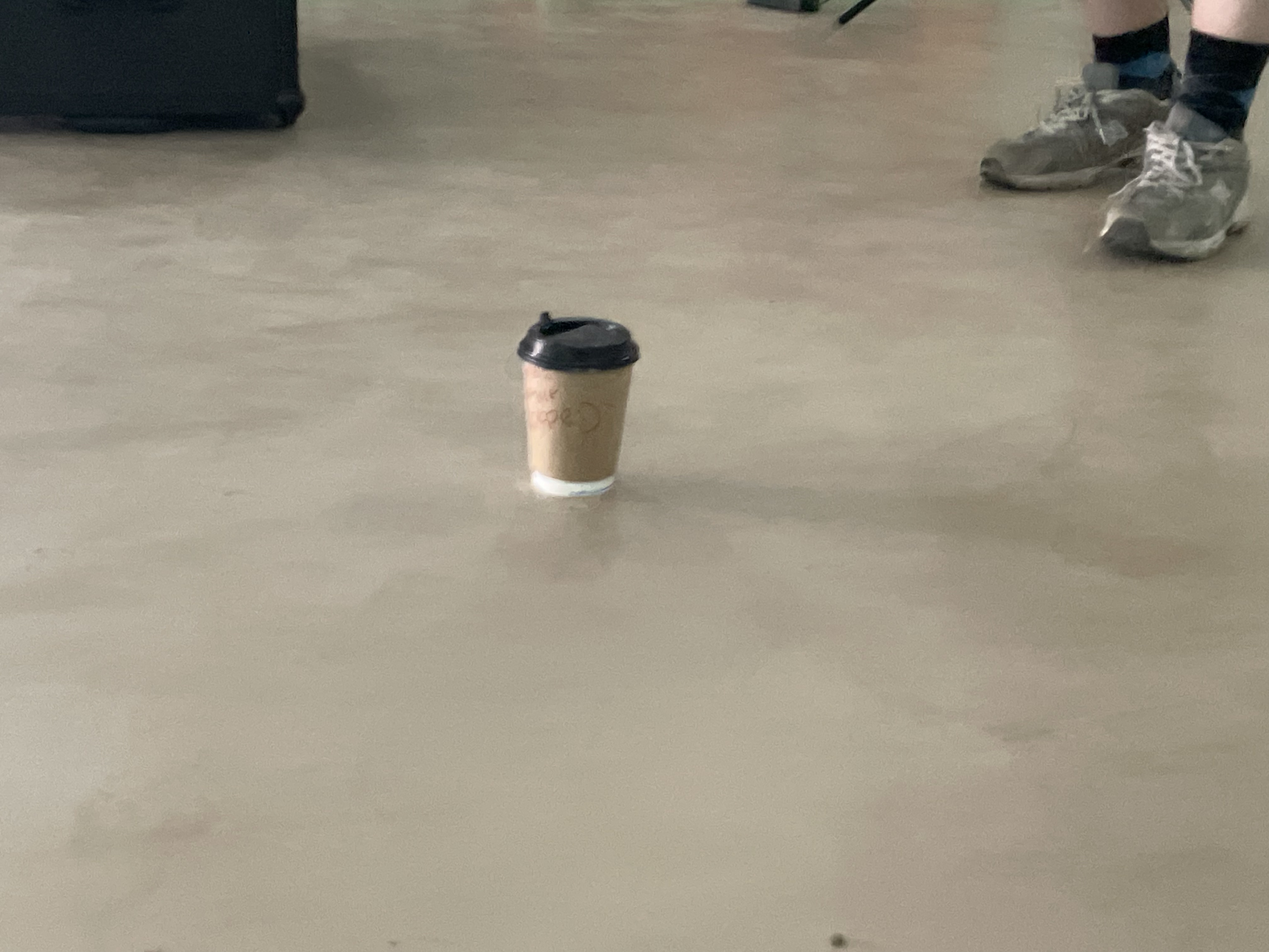cup: (517, 312, 640, 499)
